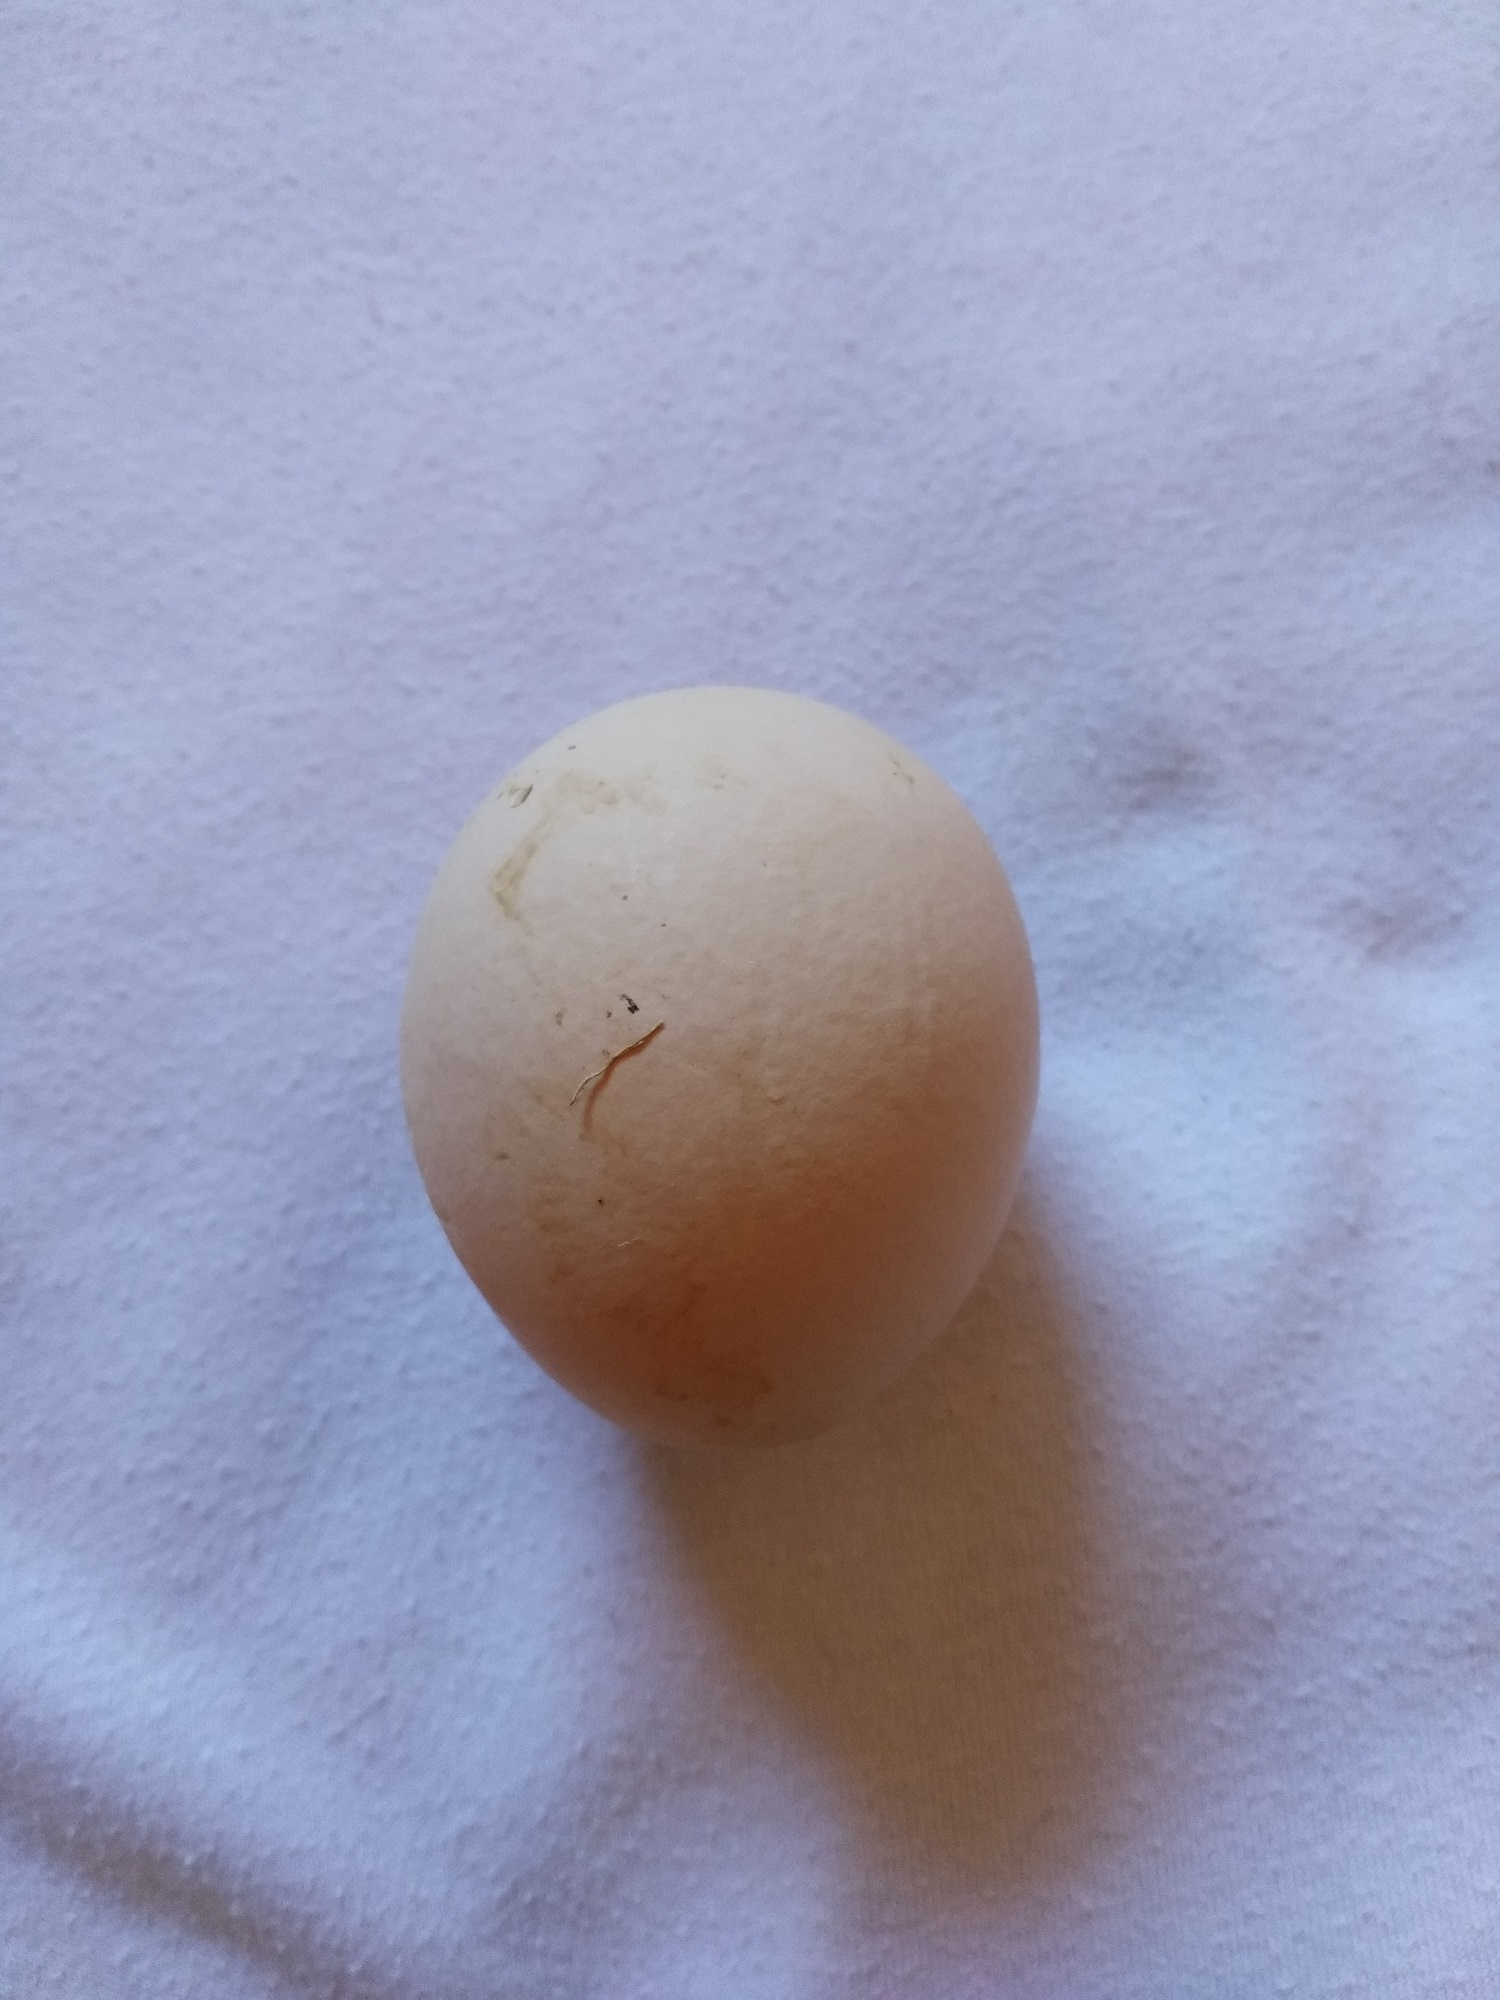Female: (389, 676, 1049, 1458)
